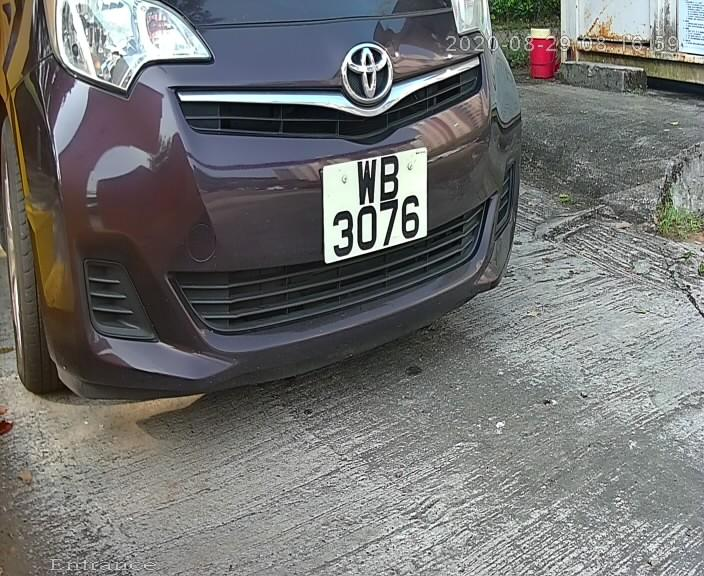License Plate: (309, 137, 441, 268)
